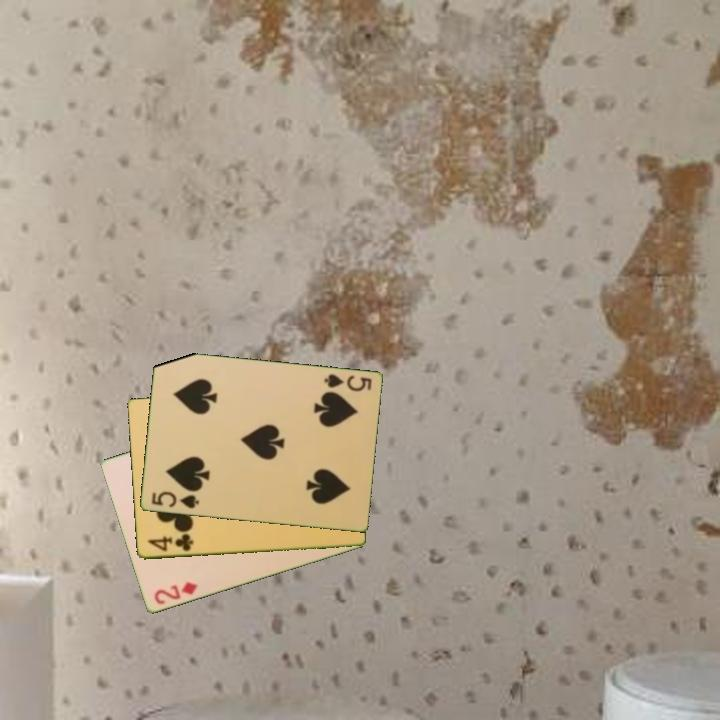2d: (151, 578, 200, 608)
4c: (144, 531, 196, 555)
5s: (148, 488, 202, 512), (321, 371, 374, 395)
